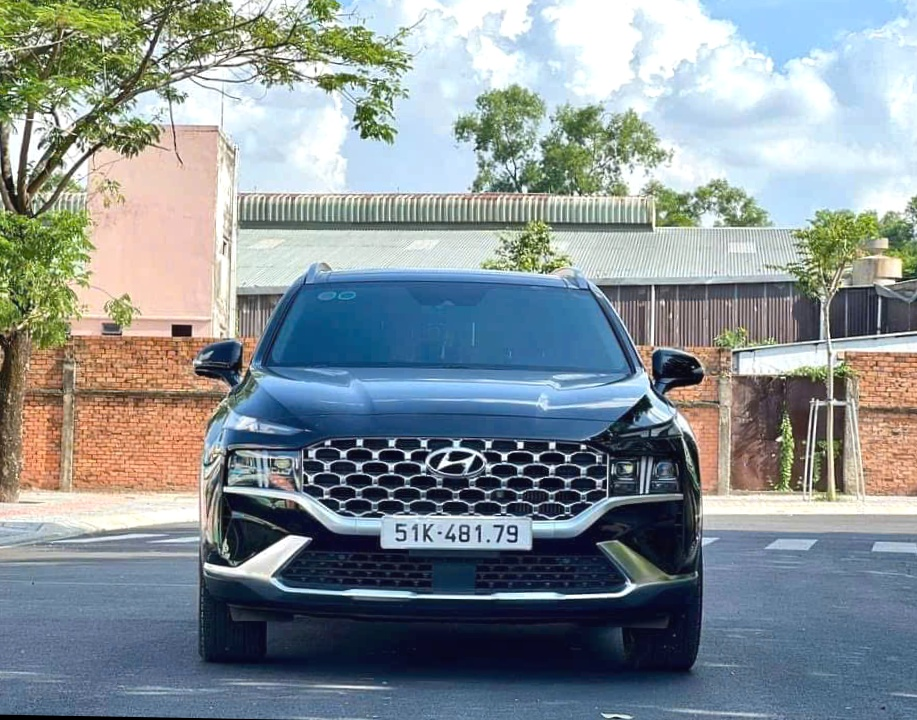Bien-so: (383, 499, 539, 537)
